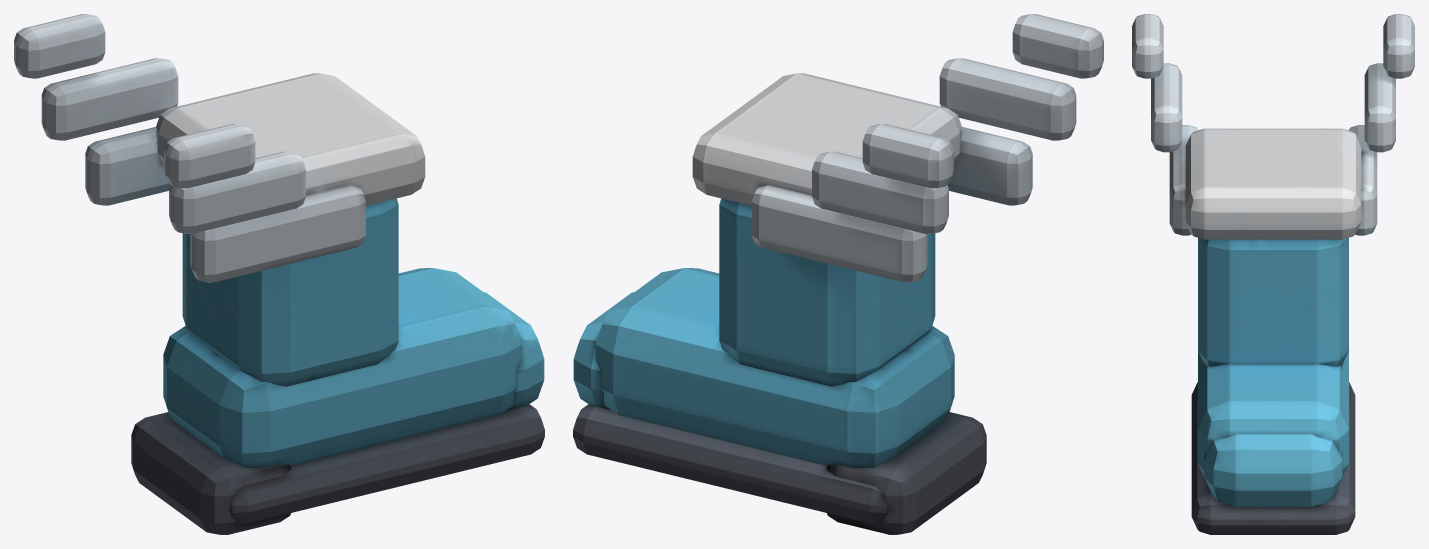
Rendered from pickup_boots.glb.
3 views of the same model, side by side, from view 1: azimuth 30°, elevation 25°; view 2: azimuth 150°, elevation 25°; view 3: azimuth 270°, elevation 25° (orthographic). The views are drawn at different scales.
Visible parts, largest first — view 1: pickup_boots; view 2: pickup_boots; view 3: pickup_boots.
Part boxes in pixels (<box>): pickup_boots: <box>14,14,544,534</box>; pickup_boots: <box>573,14,1103,534</box>; pickup_boots: <box>1132,14,1414,534</box>.
Bounding box in the file's own units: 0.655 × 0.655 × 0.45.
4 materials, 4 textured.
